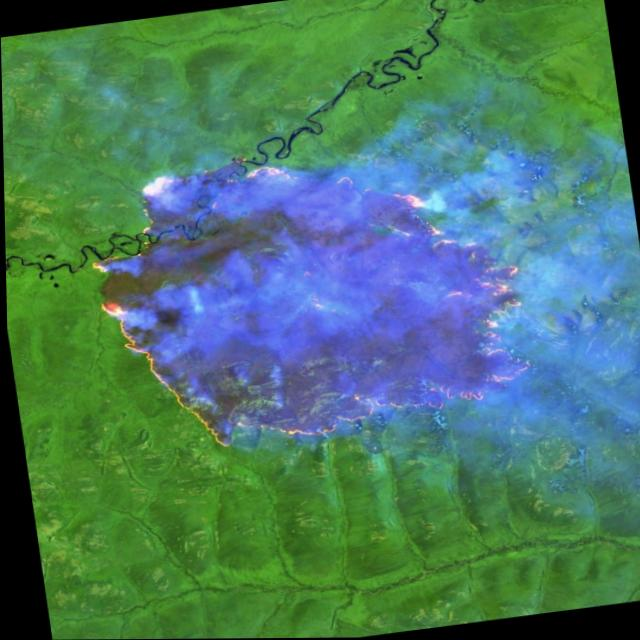fire: (72, 123, 546, 475)
